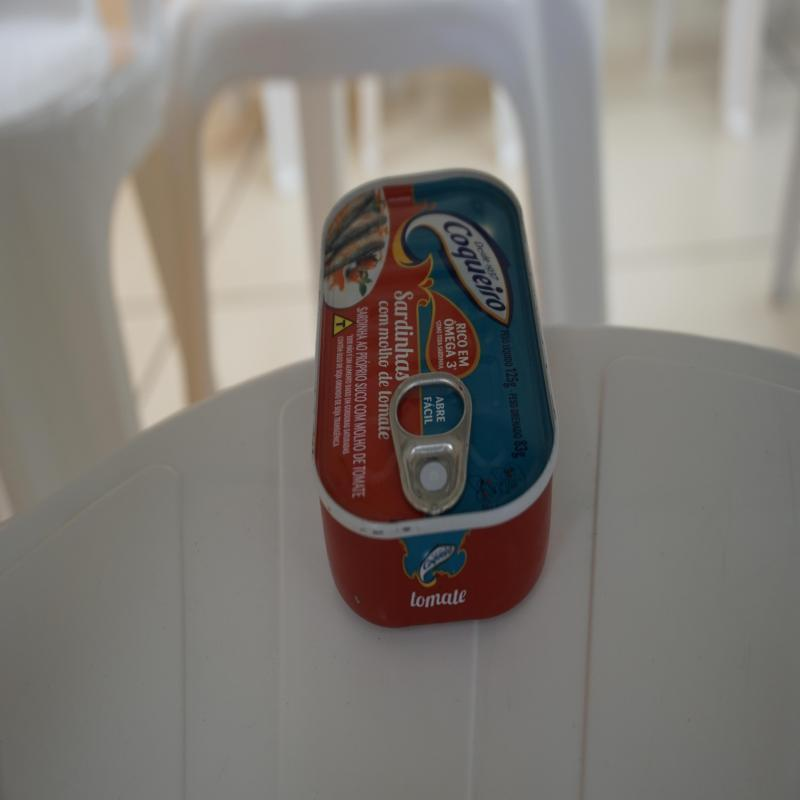TunaCan: (312, 168, 557, 632)
